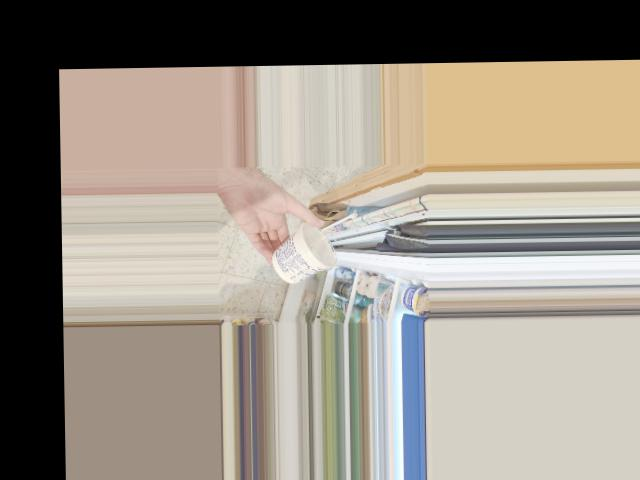cotage: (269, 224, 338, 279)
